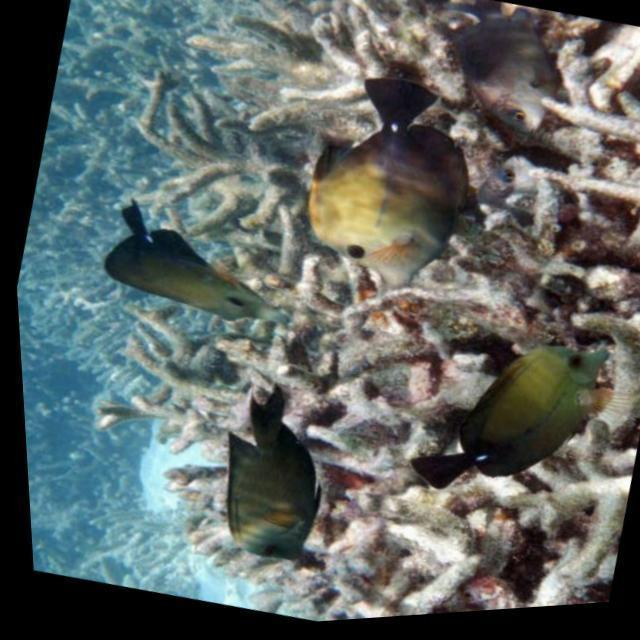Dead Coral: (8, 0, 640, 640), (92, 0, 349, 253), (277, 437, 615, 627), (443, 2, 640, 303), (259, 252, 484, 447), (79, 306, 243, 460)
